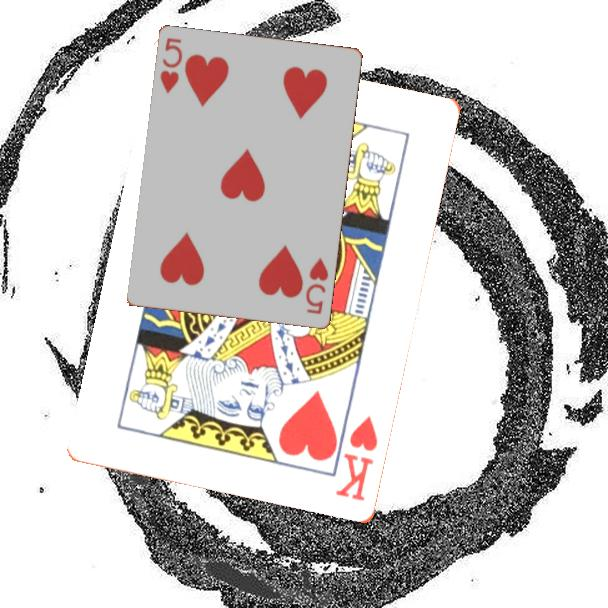h05: (302, 254, 332, 317), (157, 34, 186, 97)
h13: (332, 413, 381, 505)
